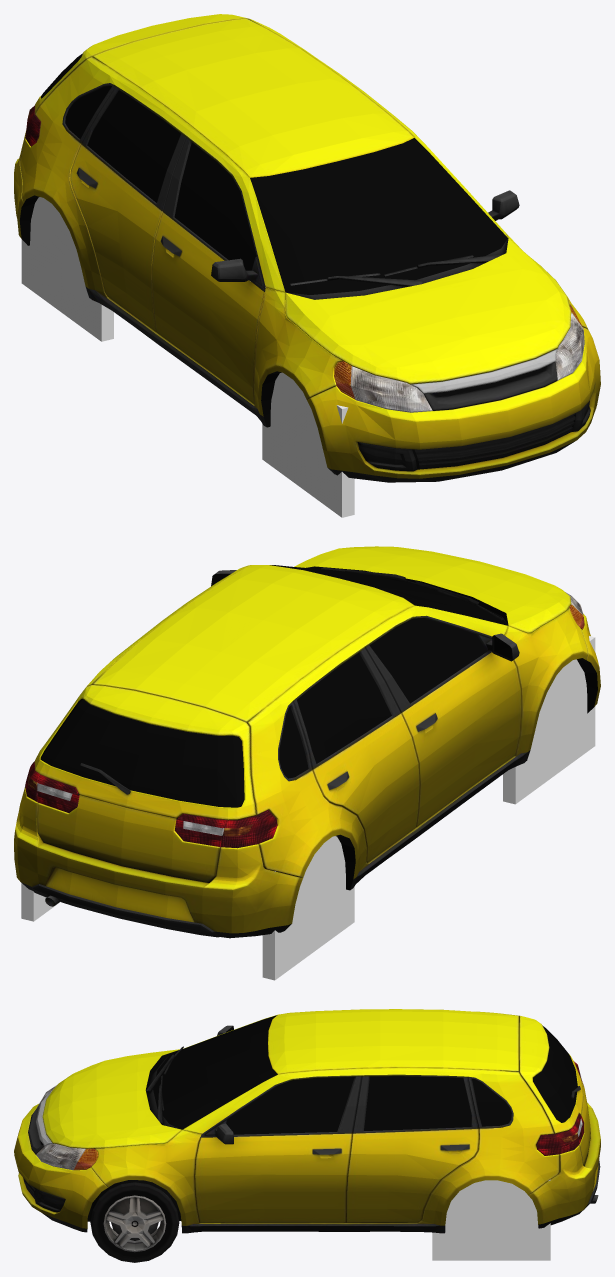
The model's file is hatchback.glb.
3 renders of one model, top to bottom at view 1: azimuth 30°, elevation 25°; view 2: azimuth 150°, elevation 25°; view 3: azimuth 270°, elevation 25°, orthographic. The views are drawn at different scales.
Visible parts, largest first — view 1: body, wheelFrontRight, wheelBackRight; view 2: body, wheelBackRight, wheelFrontRight, wheelBackLeft; view 3: body, wheelBackLeft, wheelFrontLeft.
Part boxes in pixels (x1,y1,x2,y2): body: (14, 14, 600, 482); wheelFrontRight: (262, 372, 354, 517); wheelBackRight: (21, 197, 113, 341); body: (14, 546, 600, 938); wheelBackRight: (262, 836, 354, 980); wheelFrontRight: (503, 636, 595, 804); wheelBackLeft: (21, 883, 59, 921); body: (14, 1009, 600, 1233); wheelBackLeft: (432, 1179, 550, 1260); wheelFrontLeft: (90, 1180, 179, 1262).
Size of the model in its own units: 1.74 by 1.35 by 3.96.
5 materials, 3 textured.
